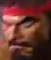ryu: (0, 2, 45, 59)
